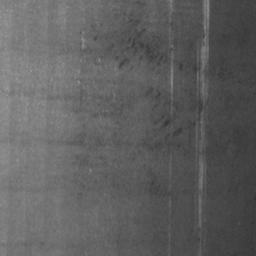Bright scratch: (197, 0, 211, 193)
